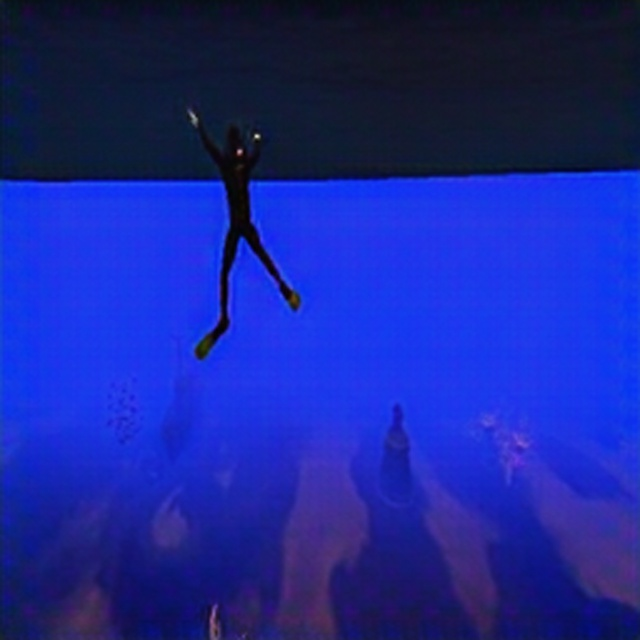diver: (186, 107, 301, 338)
